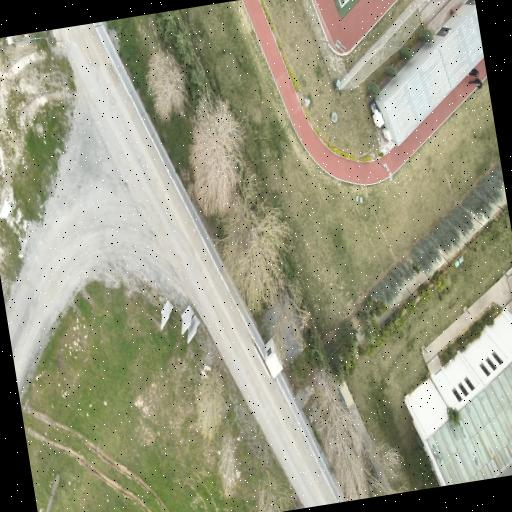person: (469, 78, 482, 89), (469, 68, 479, 77)
